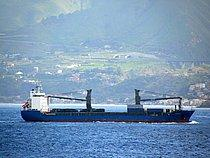Ship: (21, 79, 199, 127)
